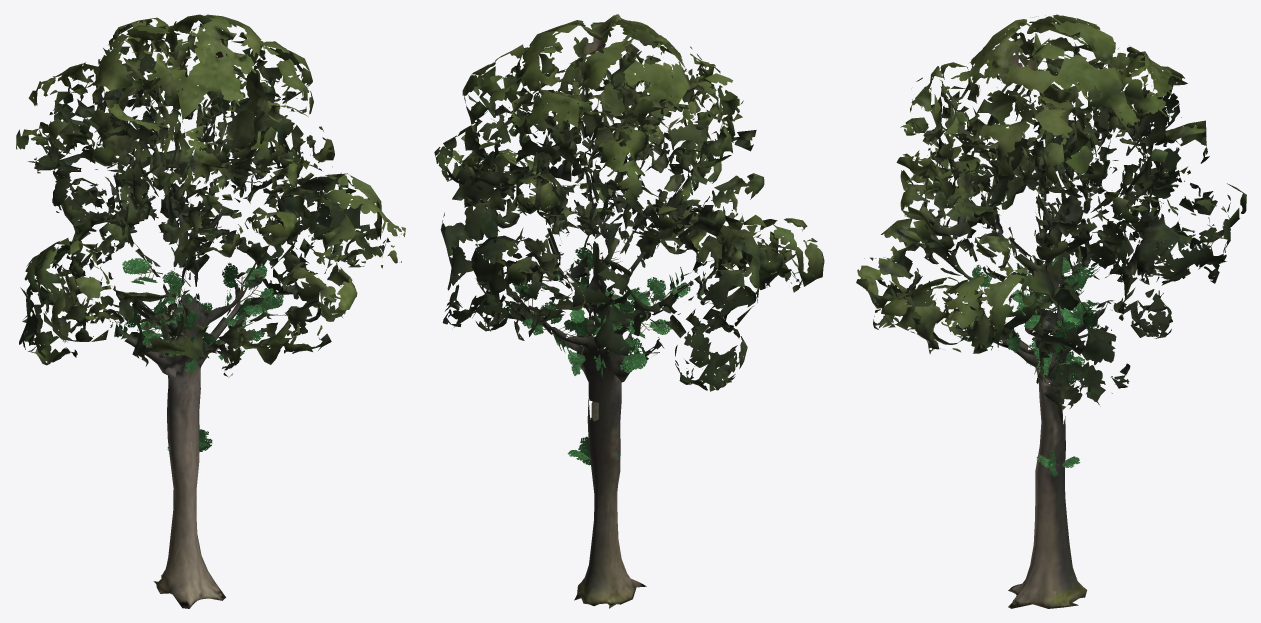
Rendered from tree-1527-near.glb.
3 views of the same model, side by side, from view 1: azimuth 30°, elevation 25°; view 2: azimuth 150°, elevation 25°; view 3: azimuth 270°, elevation 25° (orthographic).
Parts seen in each view (by area): view 1: Foliage, Wood; view 2: Foliage, Wood; view 3: Foliage, Wood.
Boxes of the visible parts, <box> form: Foliage: <box>16,14,405,452</box>; Wood: <box>124,264,247,608</box>; Foliage: <box>434,14,824,468</box>; Wood: <box>542,271,663,608</box>; Foliage: <box>856,14,1246,476</box>; Wood: <box>995,278,1108,608</box>.
Size of the model in its own units: 7.61 by 12 by 7.37.
Materials: 2 (2 with a texture image).
